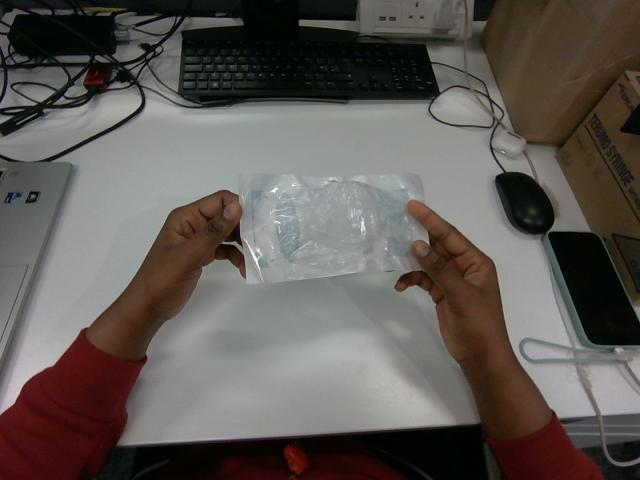gallipot: (240, 174, 426, 282)
